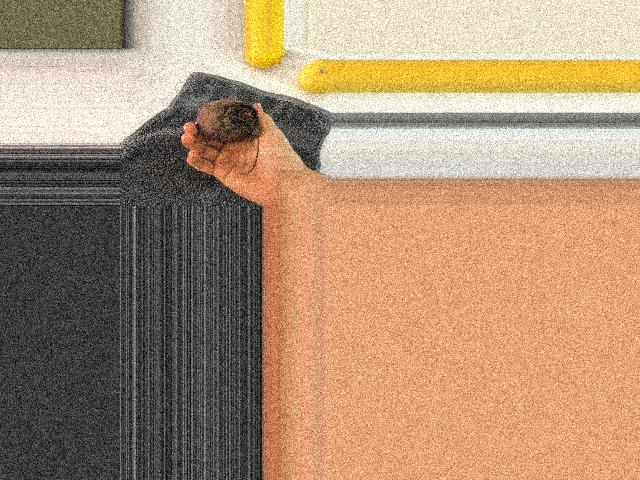beet: (195, 98, 256, 174)
